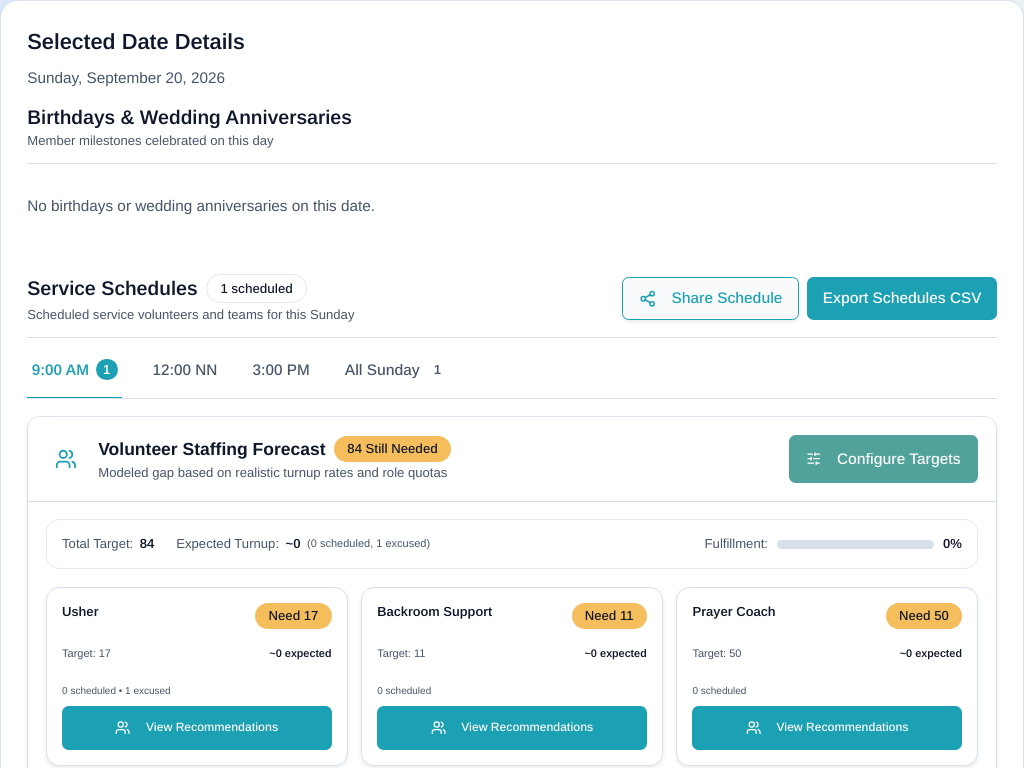
Test: SelectedDateDetails › does not render recommendation button on individual excused cards and opens StandInRecommenderModal from staffing modeler
Click the button "View Recommendations" below "• 1 excused" at point(197, 728), box [62,706,332,750]
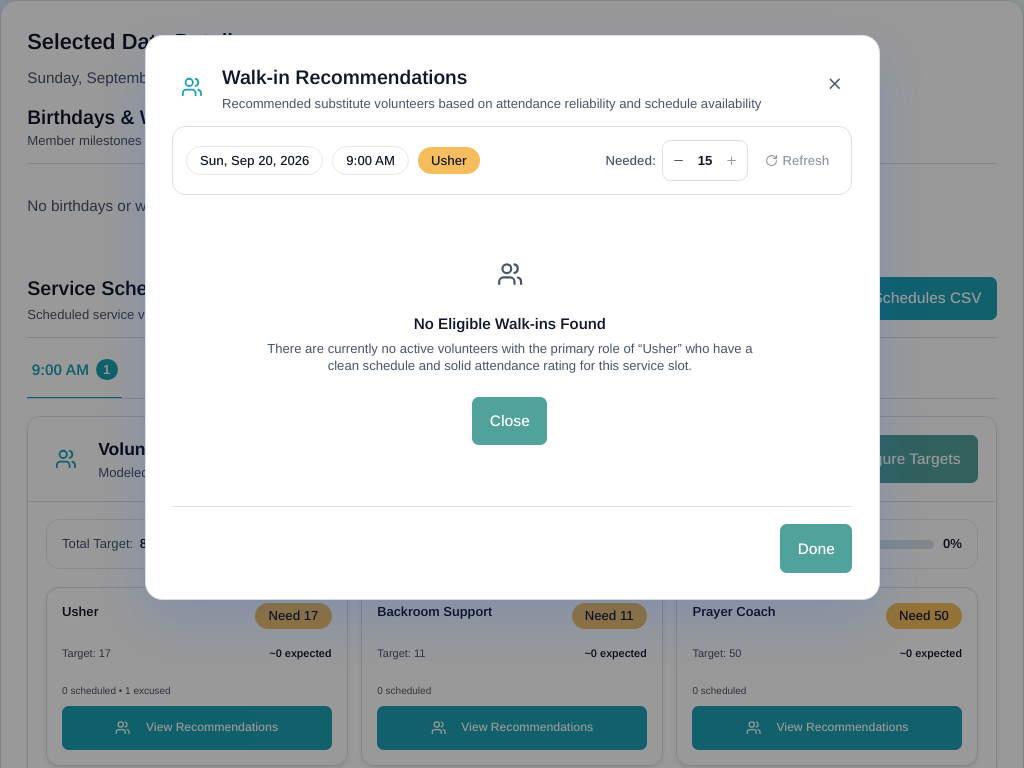
Expected: the heading "Walk-in Recommendations" is shown, [222,66,467,88]
